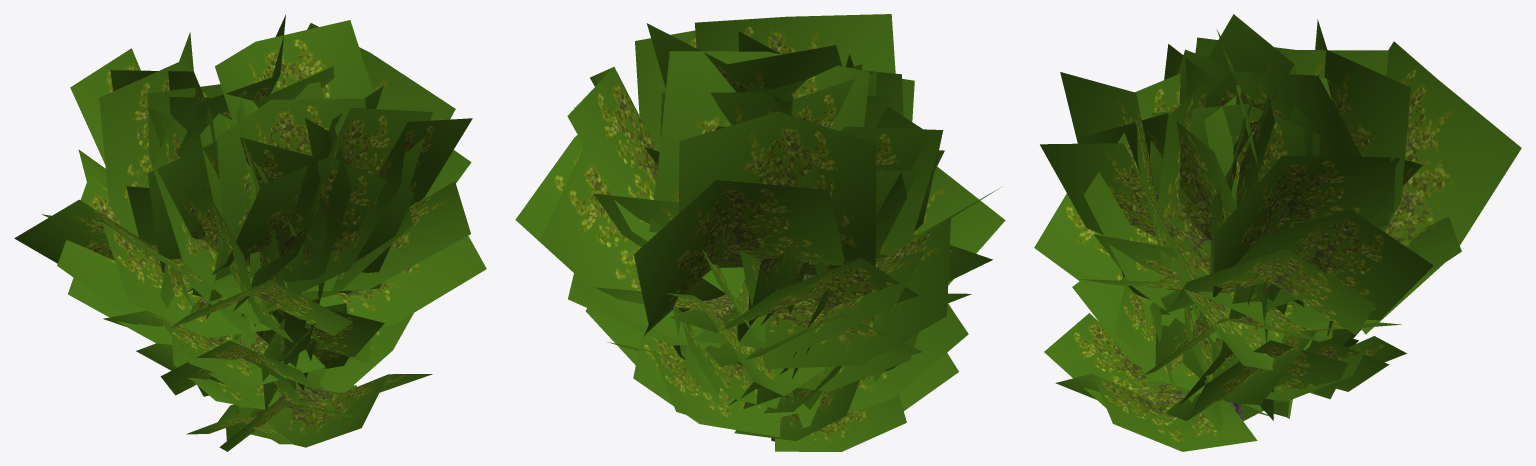
Rendered from bush2.obj.
3 renders of one model, left to right at view 1: azimuth 30°, elevation 25°; view 2: azimuth 150°, elevation 25°; view 3: azimuth 270°, elevation 25°, orthographic. The views are drawn at different scales.
Visible parts, largest first — view 1: bush2; view 2: bush2; view 3: bush2.
Boxes of the visible parts, left/top/right/bottom form: bush2: left=14, top=14, right=486, bottom=451; bush2: left=515, top=14, right=1005, bottom=451; bush2: left=1034, top=14, right=1521, bottom=451.
Size of the model in its own units: 3.26 by 2.85 by 3.21.
2 materials, 2 textured.
